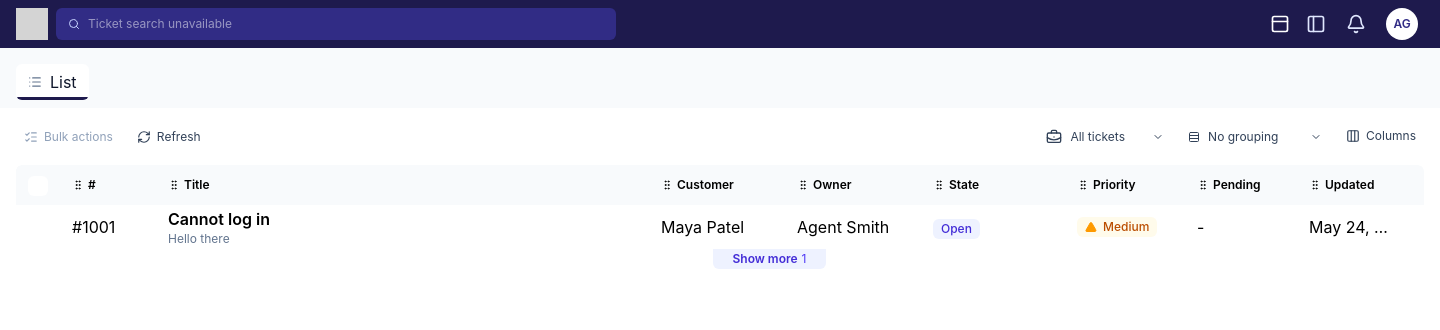
TicketWorkspace authoritative list refresh › re-fetches the complete loaded page window before replacing rows
Click the button with aria-label "Show more tickets (1)": (770, 259) [712,249,826,269]
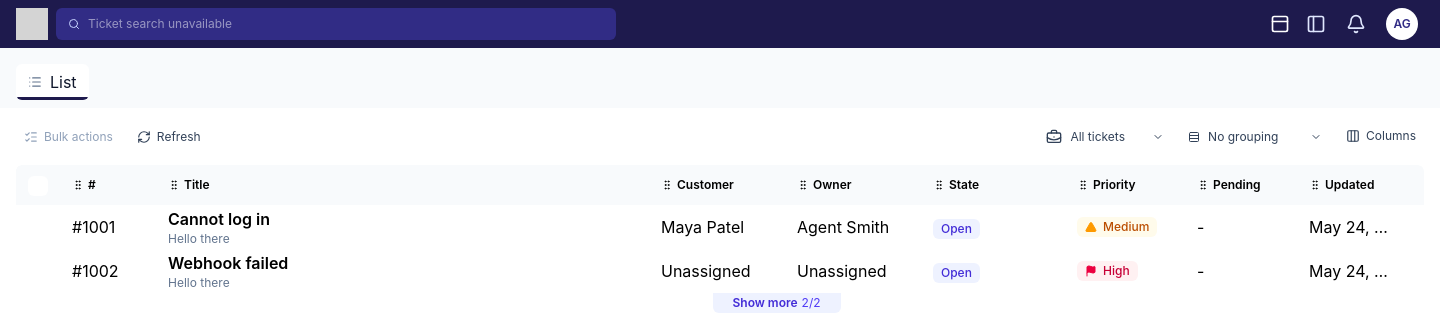
Click the button with aria-label "Refresh list": (169, 136) [129,124,209,148]
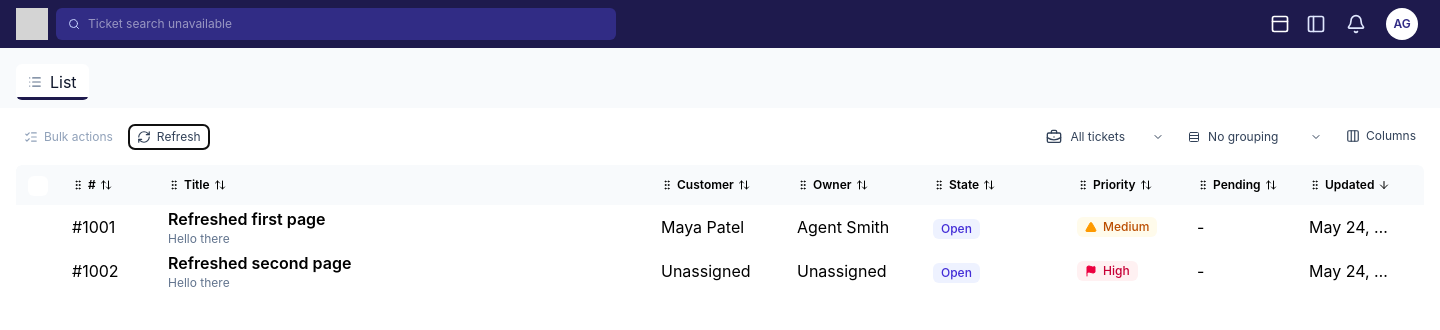
Result: the text "Refreshed first page" is shown at [168,209,326,229]
Result: the text "Refreshed second page" is shown at [168,253,351,273]
Result: the button "Cannot log in" is gone
